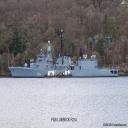Fragata: (8, 29, 121, 80)
